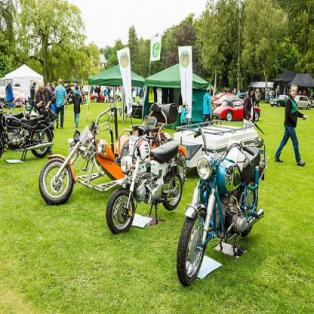Motocicleta: (177, 124, 264, 298), (33, 105, 139, 210), (104, 122, 190, 237), (0, 97, 56, 163)
